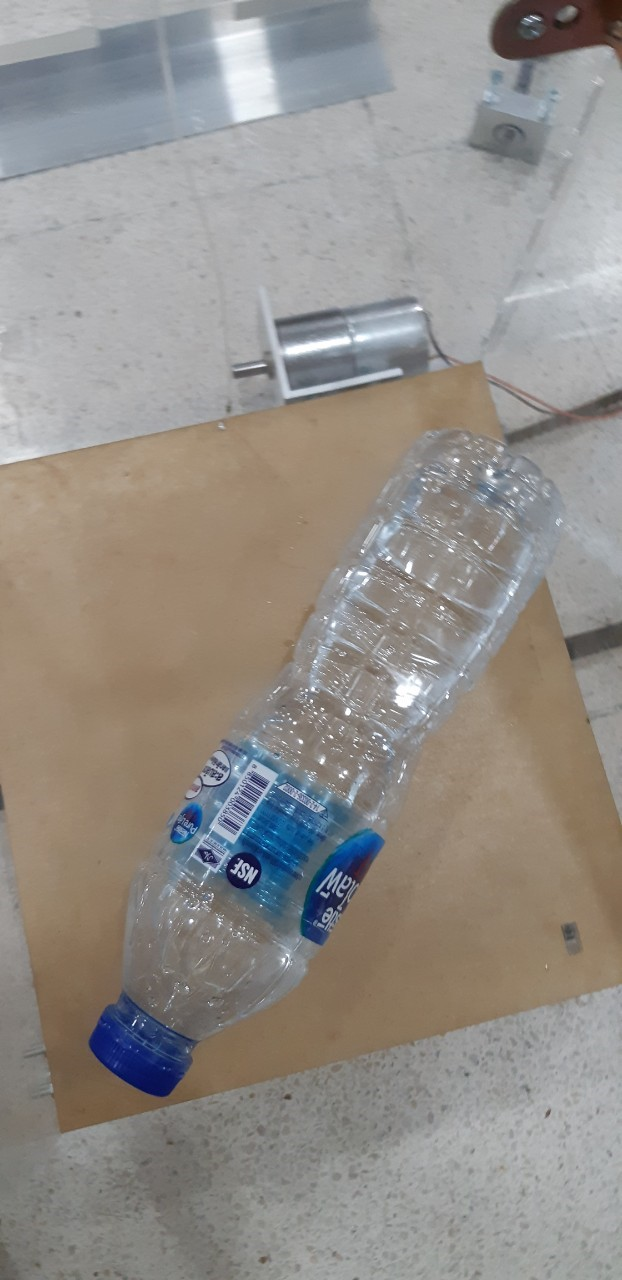PlasticBottle: (86, 429, 564, 1103)
